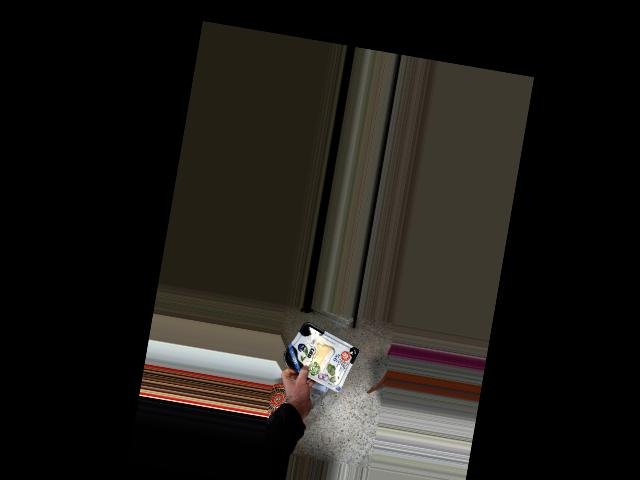cheese: (286, 326, 356, 383)
